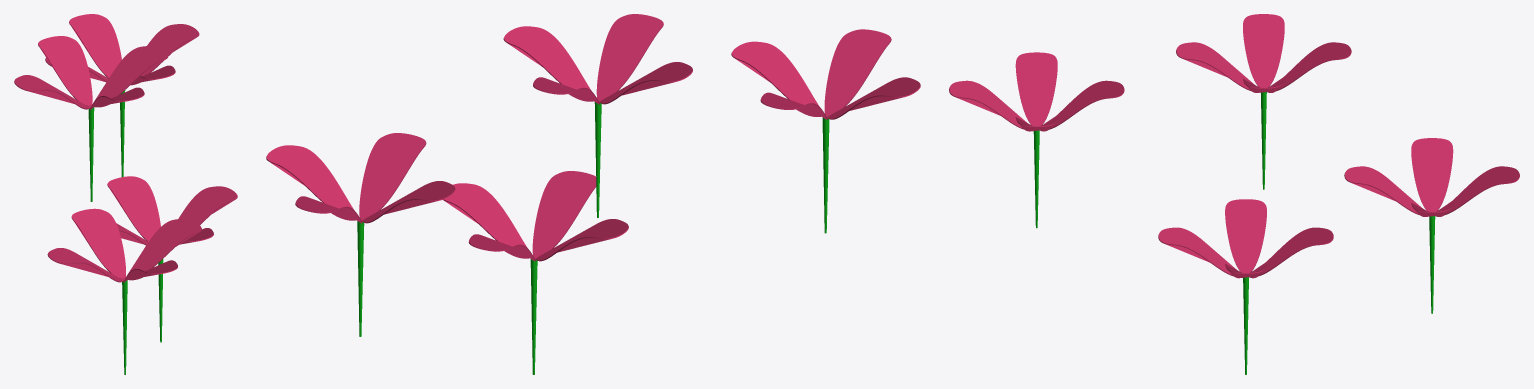
File: blueFlower.obj
3 views of the same model, side by side, from view 1: azimuth 30°, elevation 25°; view 2: azimuth 150°, elevation 25°; view 3: azimuth 270°, elevation 25° (orthographic). The views are drawn at different scales.
Visible parts, largest first — view 1: Circle.003, Circle.002, Circle, Circle.001; view 2: Circle.001, Circle.002, Circle.003, Circle; view 3: Circle.001, Circle.002, Circle, Circle.003.
Boxes of the visible parts, <box> form: Circle.003: <box>14,36,168,201</box>; Circle.002: <box>47,208,201,374</box>; Circle: <box>107,176,237,342</box>; Circle.001: <box>45,14,199,176</box>; Circle.001: <box>266,133,455,336</box>; Circle.002: <box>731,29,920,233</box>; Circle.003: <box>503,14,692,217</box>; Circle: <box>443,171,628,374</box>; Circle.001: <box>1344,138,1519,313</box>; Circle.002: <box>949,52,1124,228</box>; Circle: <box>1158,199,1333,374</box>; Circle.003: <box>1176,14,1351,189</box>.
Size of the model in its own units: 4.66 by 3.76 by 6.64.
